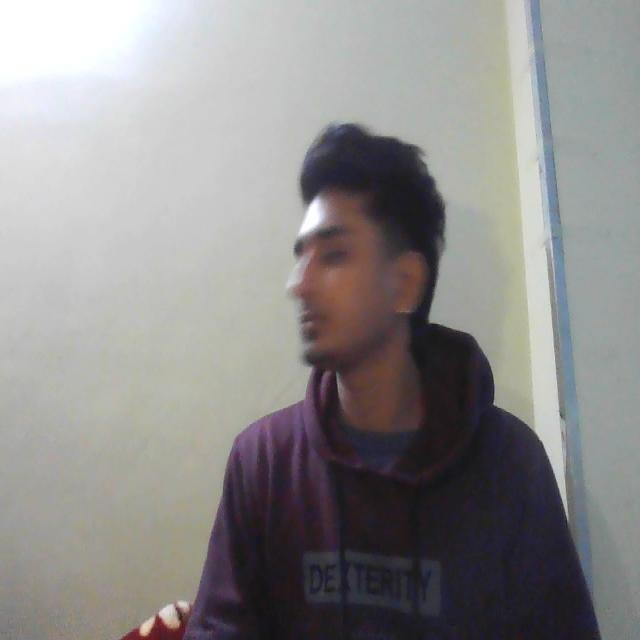real: (285, 132, 413, 373)
